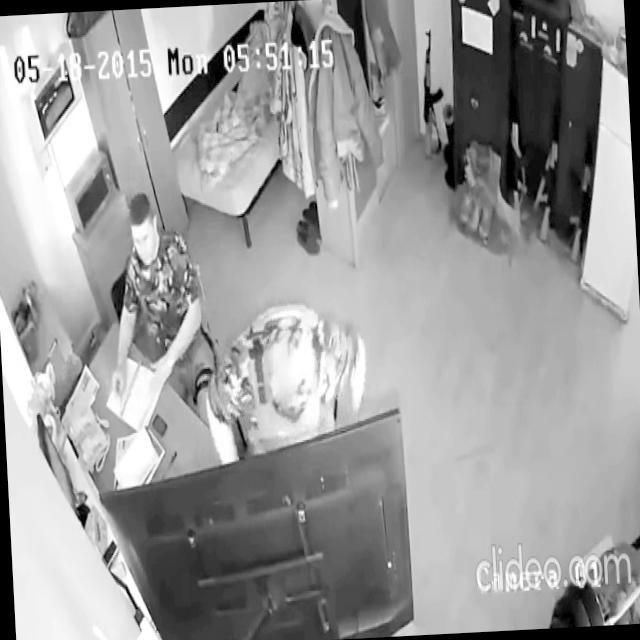gun: (530, 84, 572, 250), (504, 64, 540, 238), (564, 113, 604, 266), (418, 26, 448, 164)
person: (103, 186, 223, 440), (200, 298, 374, 470)
